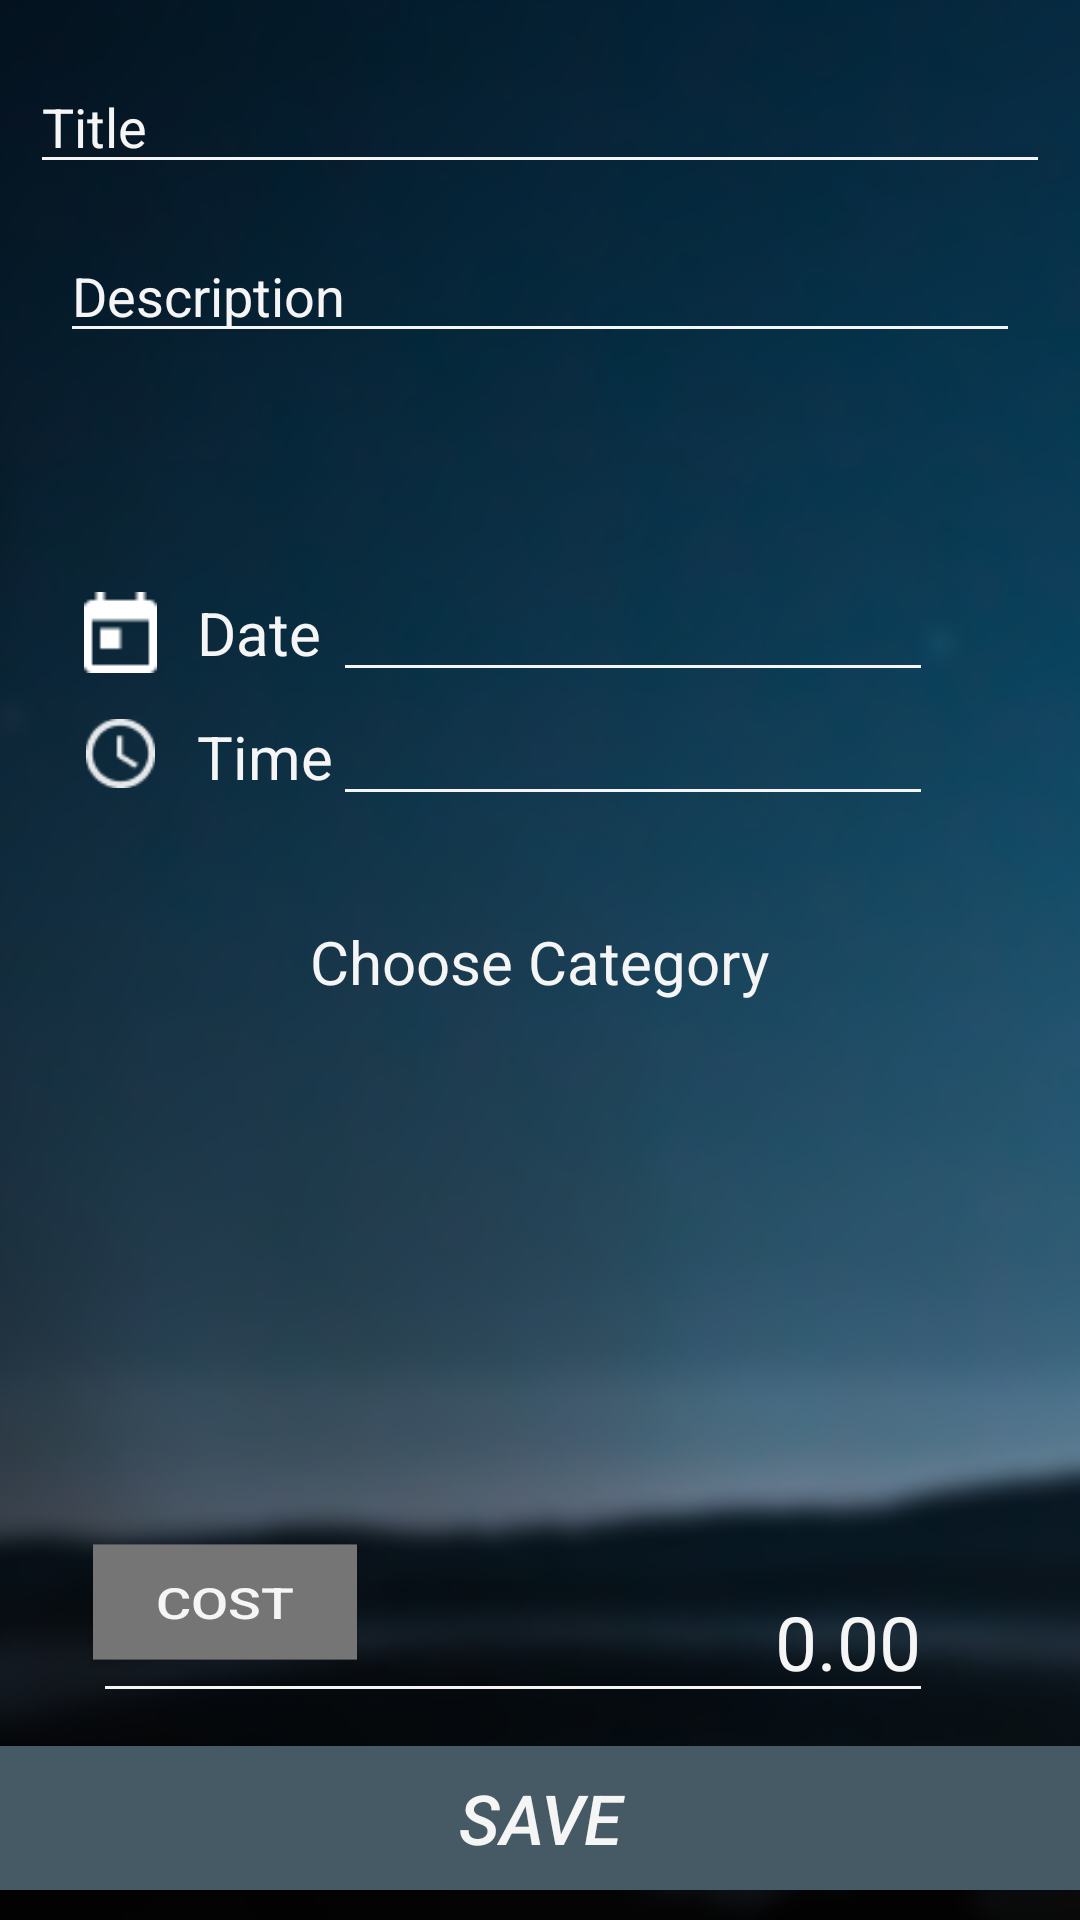

Icon bounding boxes for this 1080px x 1920px phone screenshot, format (x1,y1,x2,y2):
calender: (84,592,157,673)
